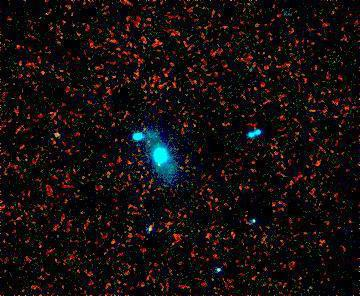star: (144, 149, 174, 179)
